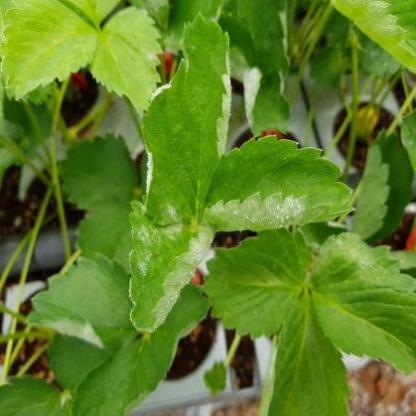Strawberry_Powdery_Mildew_Leaf: (140, 8, 233, 228), (306, 231, 416, 376), (198, 134, 356, 232), (127, 193, 217, 333), (22, 251, 138, 350), (211, 0, 293, 137), (328, 0, 415, 74)
